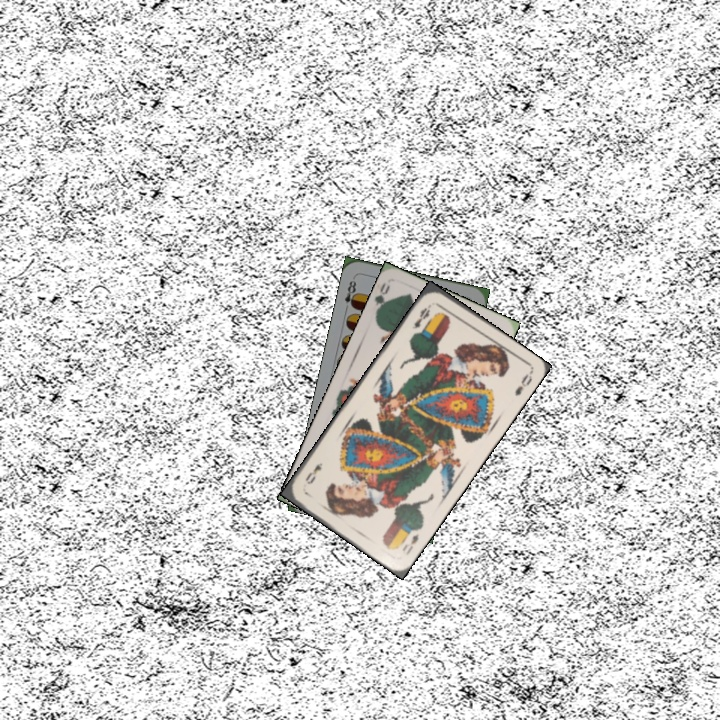E8: (341, 274, 360, 314)
EO: (408, 300, 434, 332), (398, 529, 422, 557)
GO: (371, 279, 394, 319)
